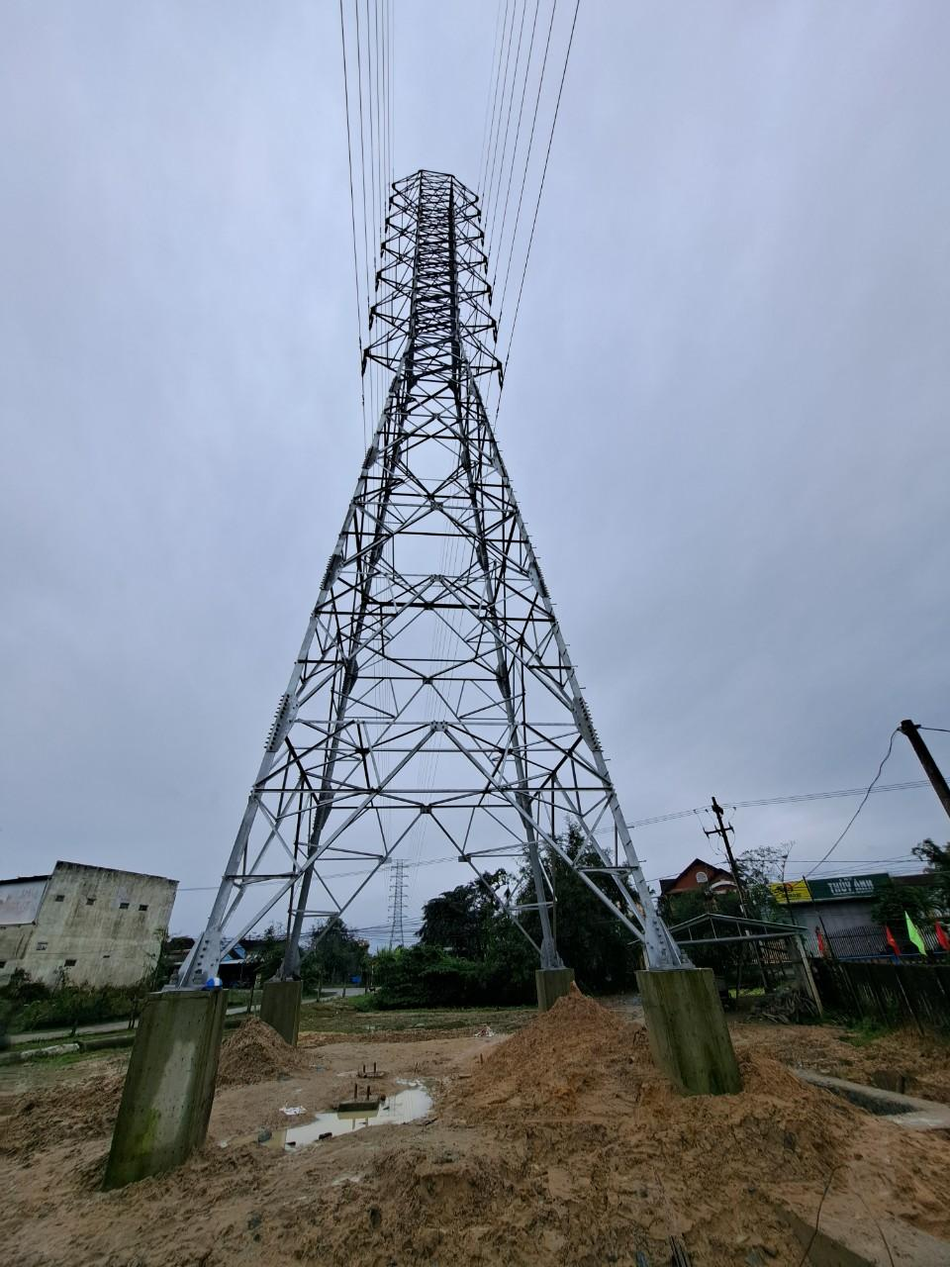power_tower: (224, 145, 627, 1063)
